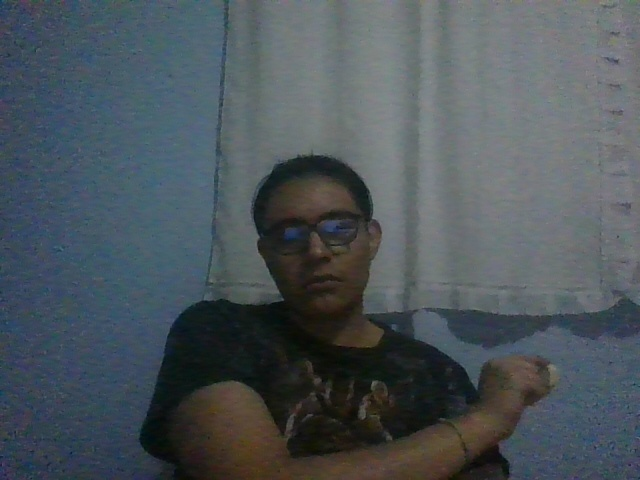goma: (537, 364, 559, 391)
